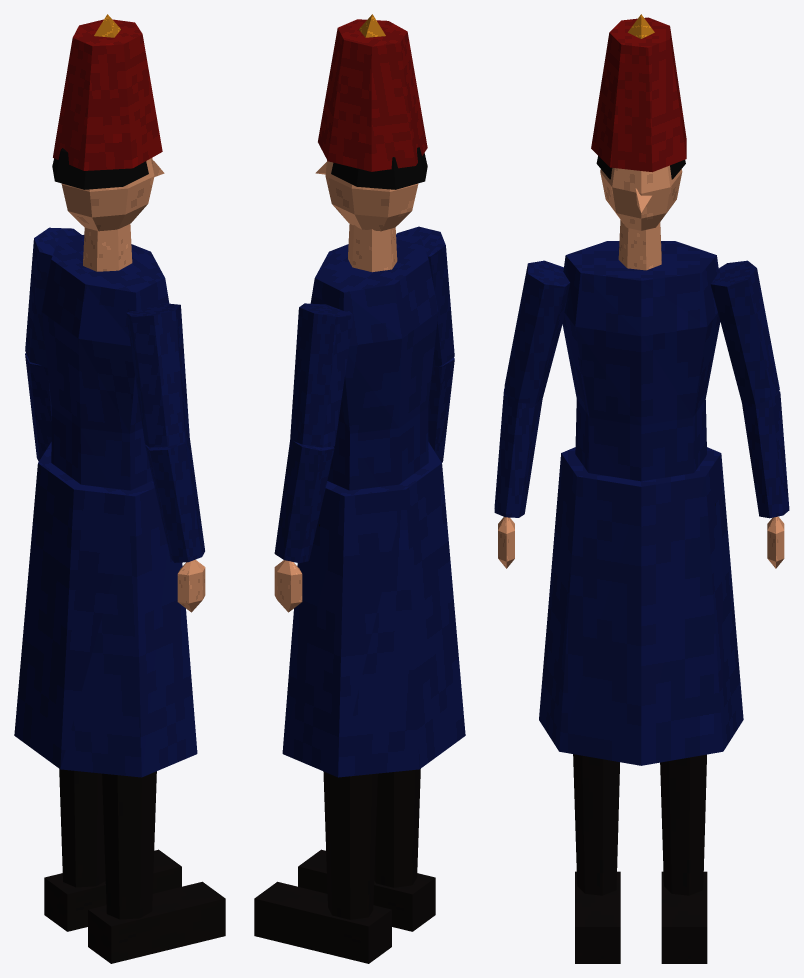
The model's file is burocrata.glb.
3 views of the same model, side by side, from view 1: azimuth 30°, elevation 25°; view 2: azimuth 150°, elevation 25°; view 3: azimuth 270°, elevation 25° (orthographic).
Visible parts, largest first — view 1: faldon, torso, gorro, pierna_der, brazo_der, pie_der, pierna_izq, antebrazo_der, cabeza, pie_izq, brazo_izq, cuello (+3 smaller); view 2: faldon, torso, gorro, pierna_izq, brazo_izq, pie_izq, pierna_der, antebrazo_izq, cabeza, pie_der, brazo_der, cuello (+3 smaller); view 3: faldon, torso, gorro, brazo_izq, brazo_der, pierna_der, pierna_izq, antebrazo_izq, antebrazo_der, cabeza, pie_izq, pie_der (+3 smaller).
Part boxes in pixels (bbox=[...]): faldon: bbox=[14, 442, 197, 777]; torso: bbox=[41, 235, 169, 490]; gorro: bbox=[53, 19, 162, 170]; pierna_der: bbox=[102, 771, 156, 919]; brazo_der: bbox=[126, 303, 189, 447]; pie_der: bbox=[88, 881, 225, 963]; pierna_izq: bbox=[59, 769, 105, 887]; antebrazo_der: bbox=[145, 438, 204, 562]; cabeza: bbox=[61, 158, 164, 231]; pie_izq: bbox=[44, 849, 181, 931]; brazo_izq: bbox=[25, 227, 81, 366]; cuello: bbox=[83, 224, 132, 271]; faldon: bbox=[282, 442, 465, 777]; torso: bbox=[310, 235, 438, 490]; gorro: bbox=[318, 19, 427, 171]; pierna_izq: bbox=[323, 771, 377, 919]; brazo_izq: bbox=[290, 303, 353, 447]; pie_izq: bbox=[254, 881, 391, 963]; pierna_der: bbox=[374, 768, 420, 887]; antebrazo_izq: bbox=[274, 439, 334, 563]; cabeza: bbox=[315, 160, 418, 231]; pie_der: bbox=[298, 849, 435, 931]; brazo_der: bbox=[396, 226, 454, 365]; cuello: bbox=[348, 224, 397, 272]; faldon: bbox=[539, 447, 743, 765]; torso: bbox=[562, 241, 720, 481]; gorro: bbox=[591, 17, 686, 172]; brazo_izq: bbox=[710, 260, 779, 404]; brazo_der: bbox=[504, 260, 569, 403]; pierna_der: bbox=[573, 754, 619, 895]; pierna_izq: bbox=[660, 754, 706, 895]; antebrazo_izq: bbox=[742, 391, 789, 518]; antebrazo_der: bbox=[494, 388, 542, 517]; cabeza: bbox=[600, 165, 682, 230]; pie_izq: bbox=[661, 871, 707, 963]; pie_der: bbox=[575, 871, 620, 963].
Size of the model in its own units: 0.3 by 1.7 by 0.5.
1 material, 1 textured.
